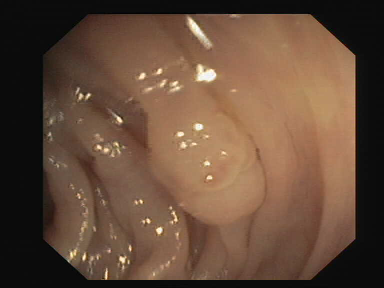polyp: (120, 78, 287, 226)
